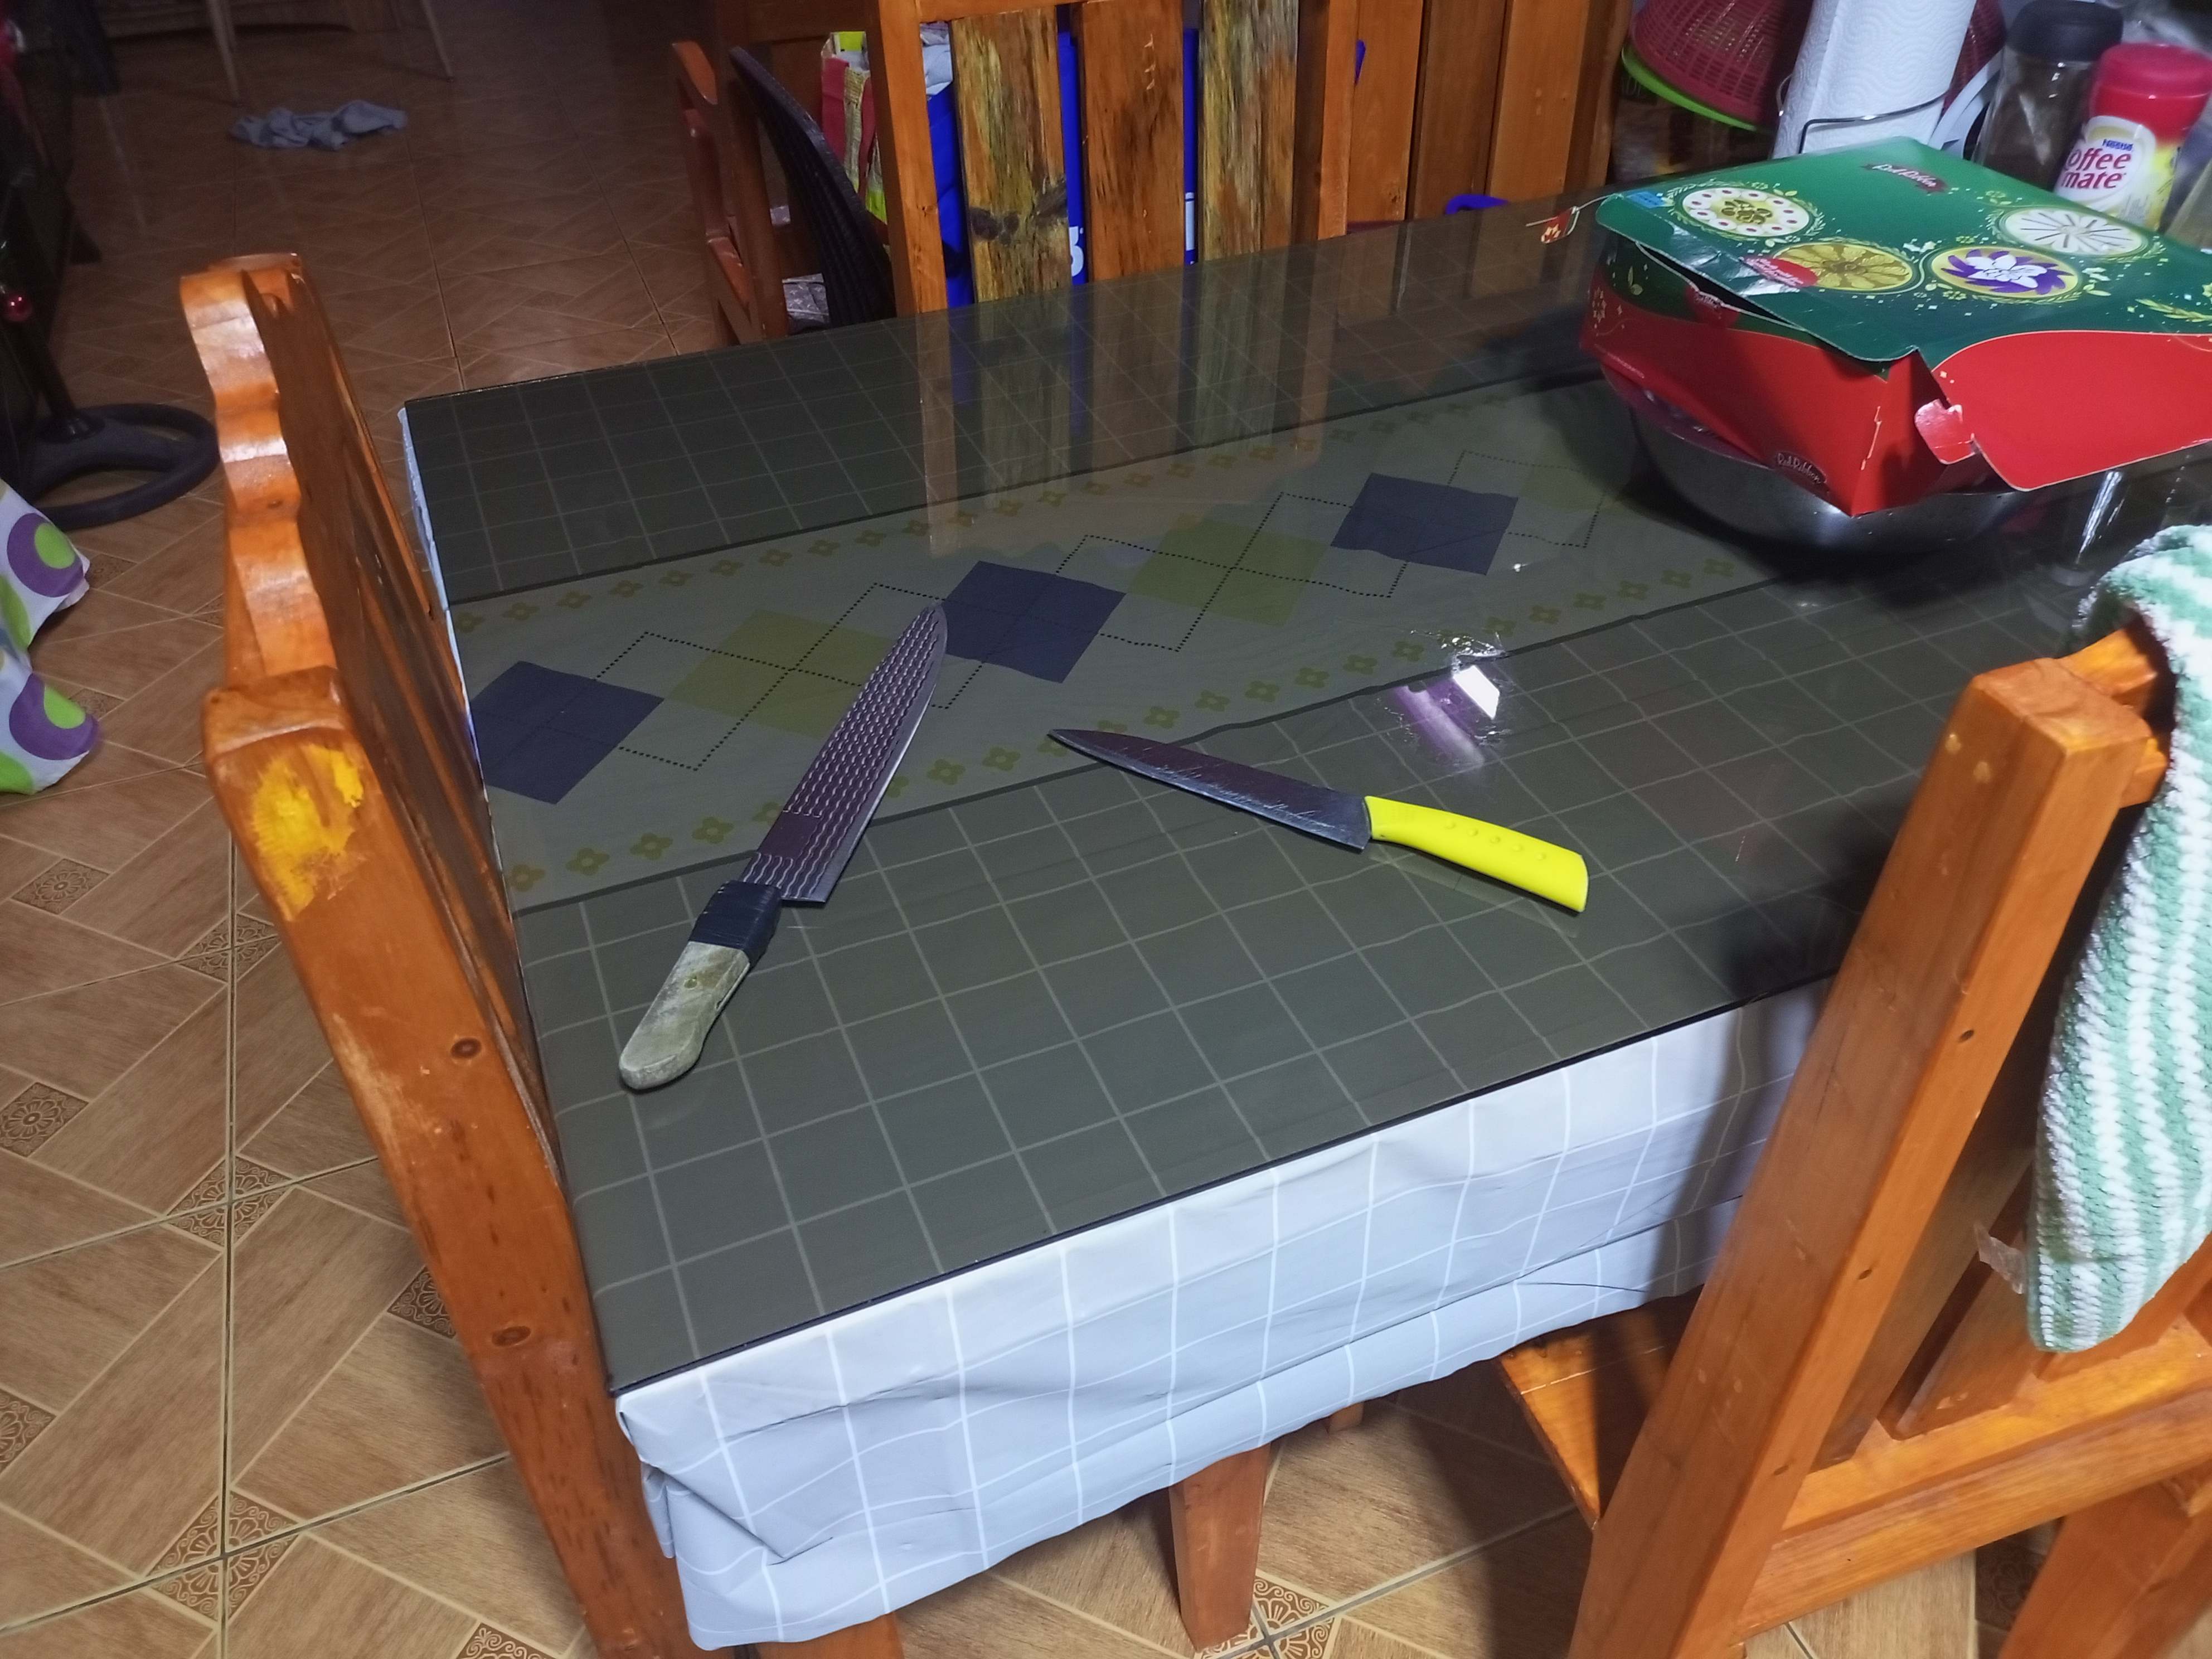knife: (631, 599, 946, 1105), (1057, 727, 1595, 910)
